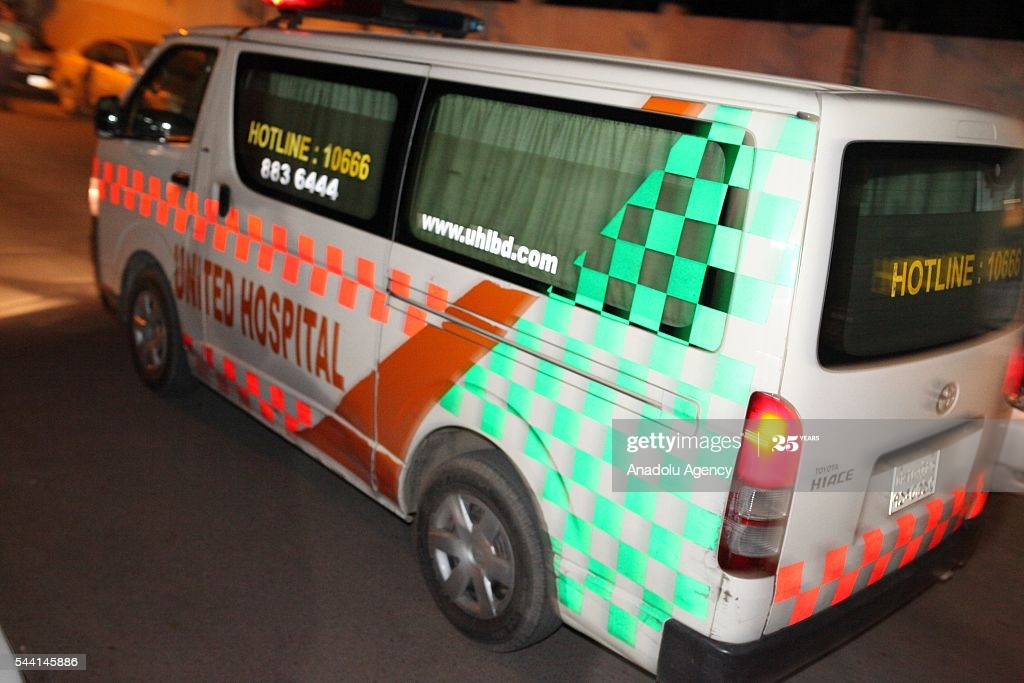ambulance: (83, 20, 1023, 683)
